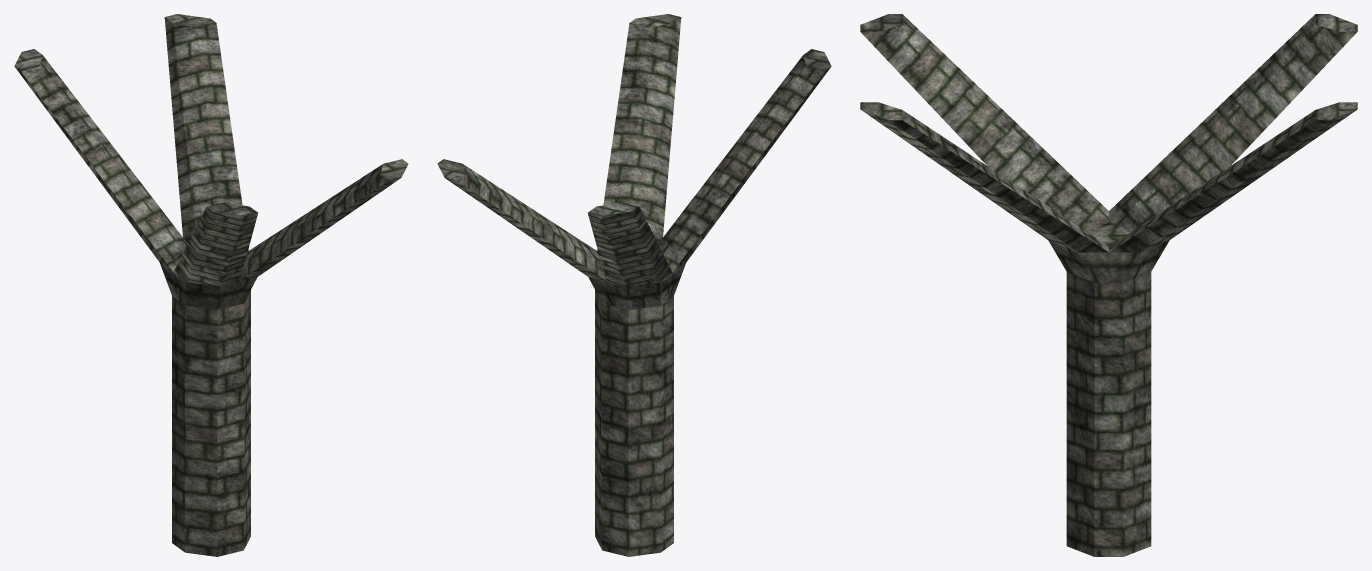
Rendered from SuportePlataforma2.fbx.
3 views of the same model, side by side, from view 1: azimuth 30°, elevation 25°; view 2: azimuth 150°, elevation 25°; view 3: azimuth 270°, elevation 25° (orthographic). The views are drawn at different scales.
Parts seen in each view (by area): view 1: Cube.081; view 2: Cube.081; view 3: Cube.081.
Part boxes in pixels (left/top/right/bottom): Cube.081: left=14, top=14, right=408, bottom=556; Cube.081: left=437, top=14, right=831, bottom=556; Cube.081: left=860, top=14, right=1357, bottom=556.
Size of the model in its own units: 292 by 606 by 579.
